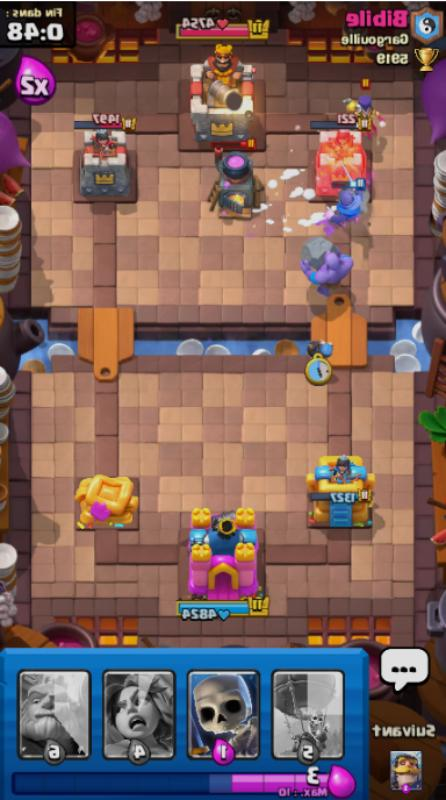chevalier: (318, 170, 378, 236)
